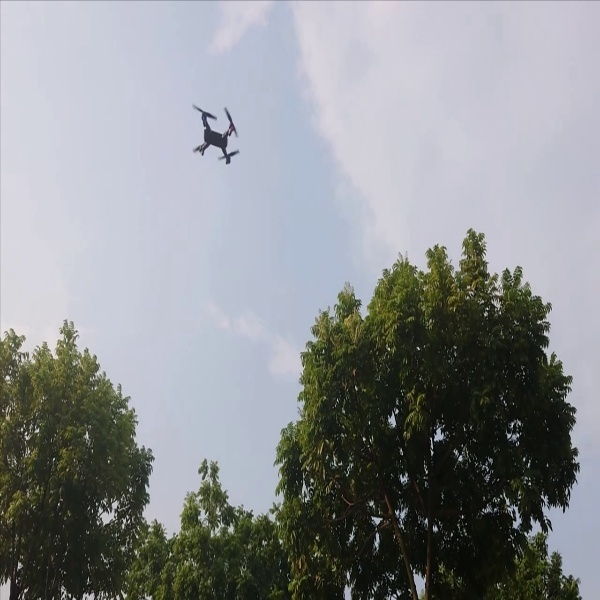drone: (184, 94, 247, 169)
